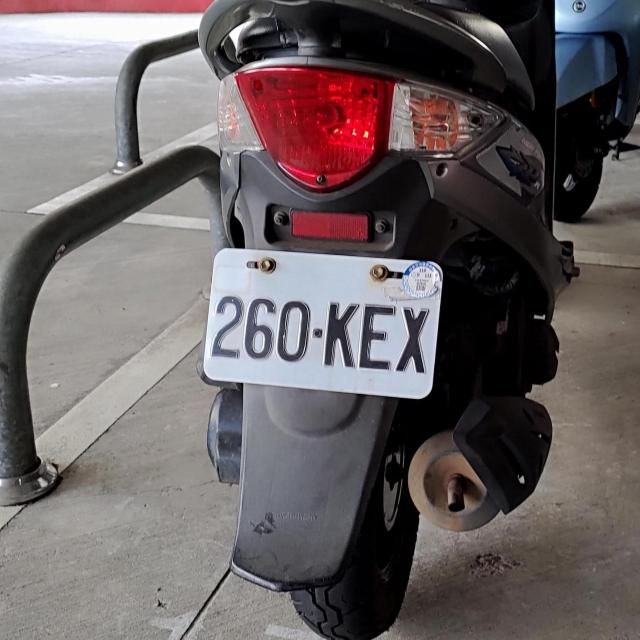W: (203, 244, 448, 398)
